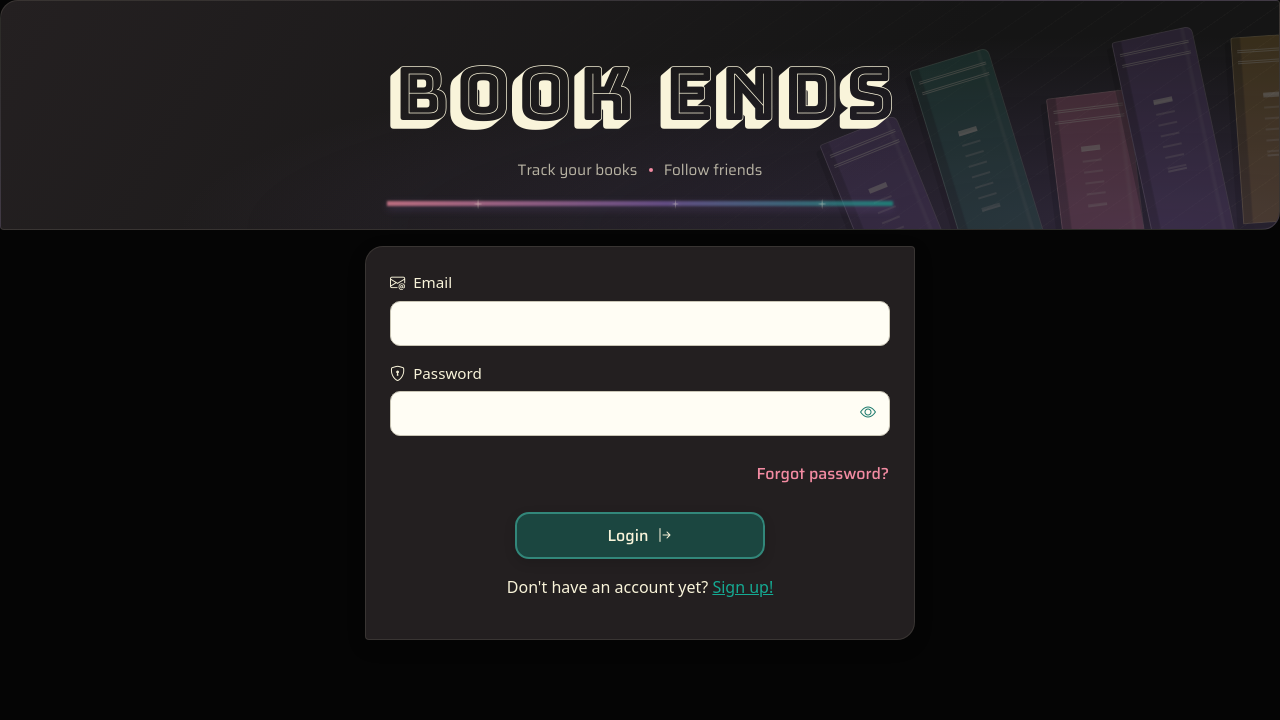
Test: Login password reset requests › shows the email-only reset form and a generic confirmation after submit
Click the button with class "forgot-password".
click(823, 474)  # box [756,452,890,496]
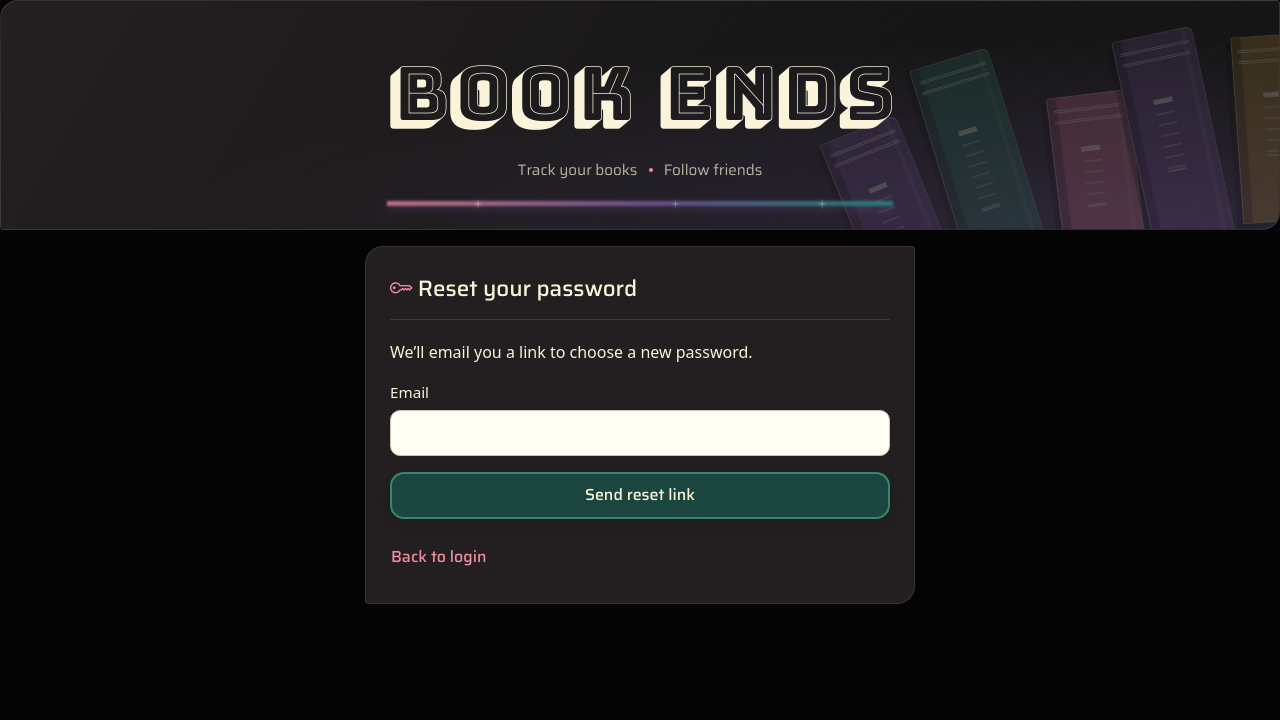
Type "reader@example.com" into the field with id "reset-email".
click(640, 433); type("reader@example.com")  # box [390,410,890,456]
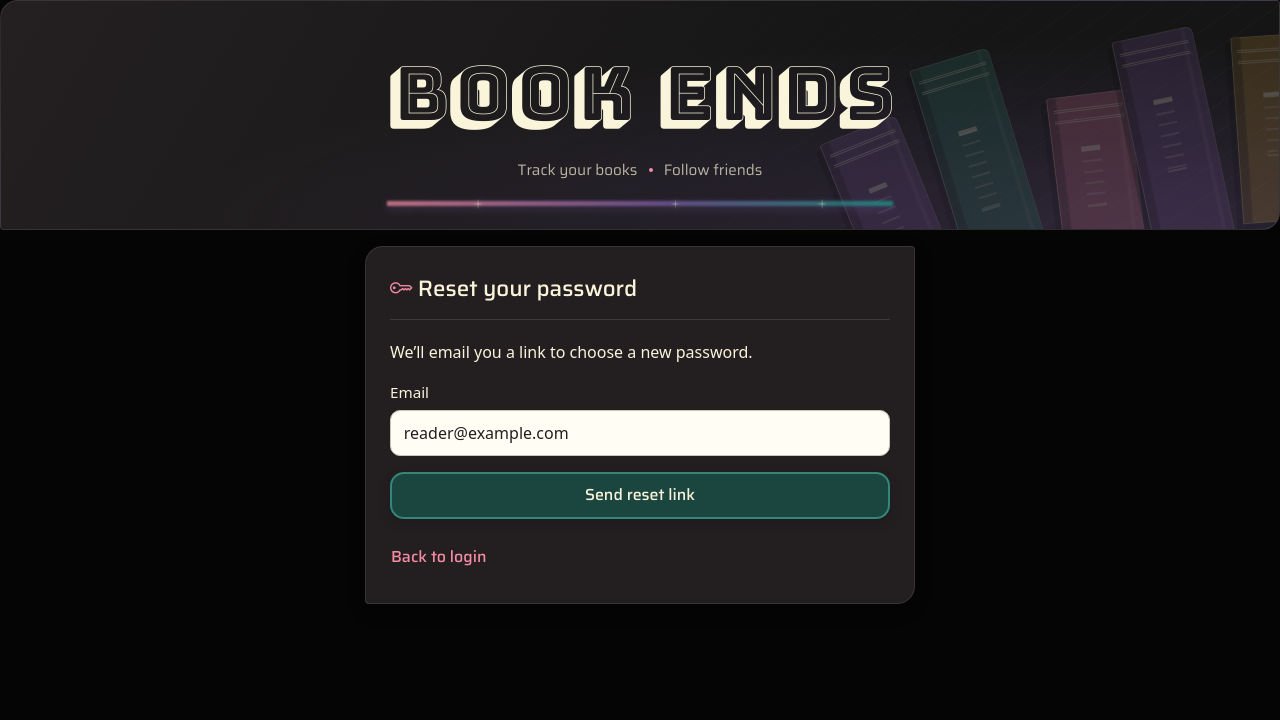
Submit the form, box [365,246,915,604]
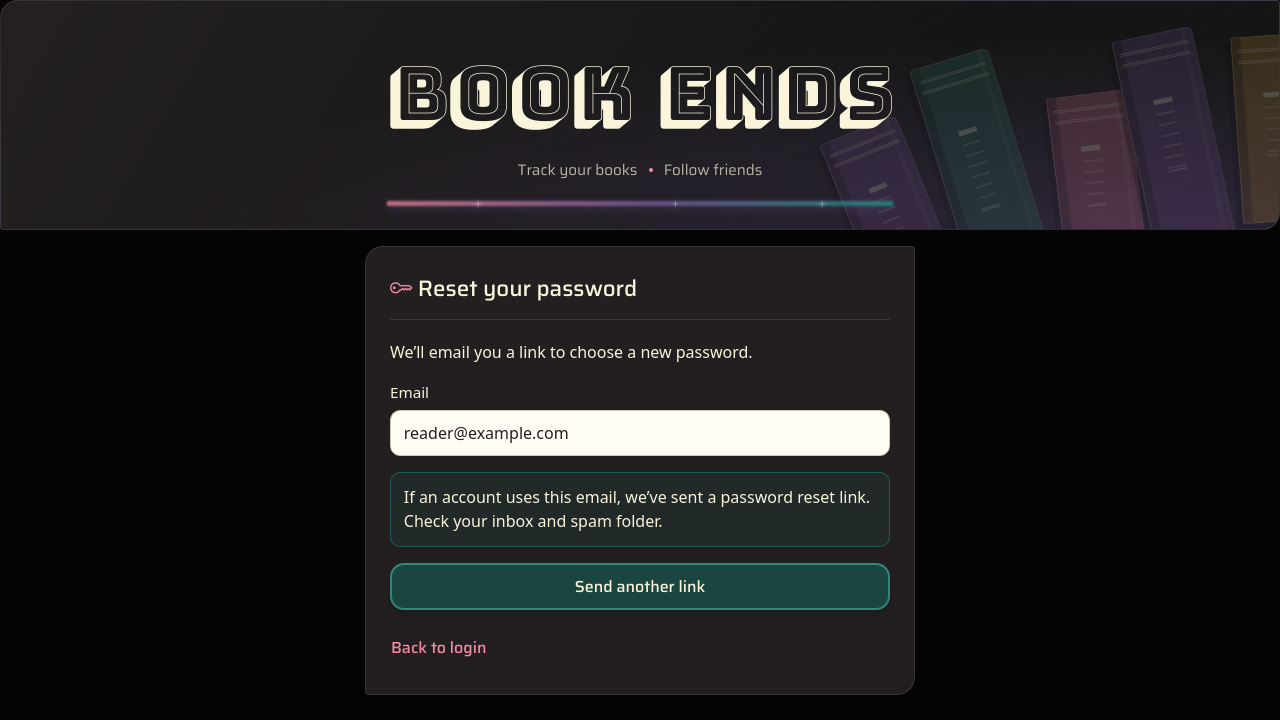
Expected: the text "If an account uses this email" is shown, [404,486,870,532]
